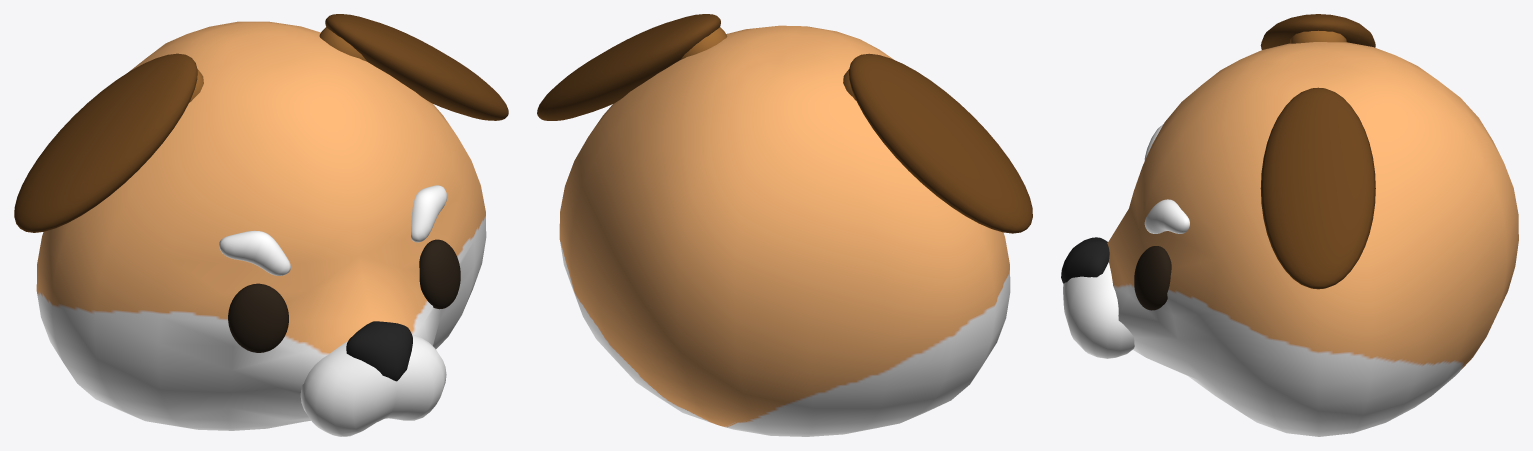
Rendered from cha_dog_head.obj.
The picture shows the model from 3 angles, left to right: view 1: azimuth 30°, elevation 25°; view 2: azimuth 150°, elevation 25°; view 3: azimuth 270°, elevation 25°; orthographic projection. The views are drawn at different scales.
Parts seen in each view (by area): view 1: pSphere1 cha_dog_head, cha_dog_head pSphere8, cha_dog_head pSphere11, cha_dog_head pSphere10, cha_dog_head pSphere12, cha_dog_head pSphere3, cha_dog_head pSphere9; view 2: pSphere1 cha_dog_head, cha_dog_head pSphere8, cha_dog_head pSphere9; view 3: pSphere1 cha_dog_head, cha_dog_head pSphere8, cha_dog_head pSphere11, cha_dog_head pSphere10, cha_dog_head pSphere3, cha_dog_head pSphere12, cha_dog_head pSphere9.
Boxes of the visible parts, left/top/right/bottom form: pSphere1 cha_dog_head: left=36, top=21, right=486, bottom=430; cha_dog_head pSphere8: left=14, top=14, right=508, bottom=232; cha_dog_head pSphere11: left=300, top=334, right=446, bottom=436; cha_dog_head pSphere10: left=228, top=239, right=460, bottom=352; cha_dog_head pSphere12: left=219, top=185, right=447, bottom=275; cha_dog_head pSphere3: left=346, top=321, right=412, bottom=381; cha_dog_head pSphere9: left=189, top=27, right=366, bottom=102; pSphere1 cha_dog_head: left=559, top=25, right=1010, bottom=436; cha_dog_head pSphere8: left=537, top=14, right=1032, bottom=233; cha_dog_head pSphere9: left=680, top=27, right=855, bottom=100; pSphere1 cha_dog_head: left=1107, top=42, right=1518, bottom=436; cha_dog_head pSphere8: left=1260, top=14, right=1375, bottom=289; cha_dog_head pSphere11: left=1063, top=262, right=1134, bottom=358; cha_dog_head pSphere10: left=1134, top=246, right=1171, bottom=310; cha_dog_head pSphere3: left=1061, top=237, right=1109, bottom=283; cha_dog_head pSphere12: left=1144, top=124, right=1189, bottom=233; cha_dog_head pSphere9: left=1289, top=30, right=1346, bottom=43.
Bounding box in the file's own units: 1.03 × 0.757 × 0.9.
6 materials, 1 textured.
